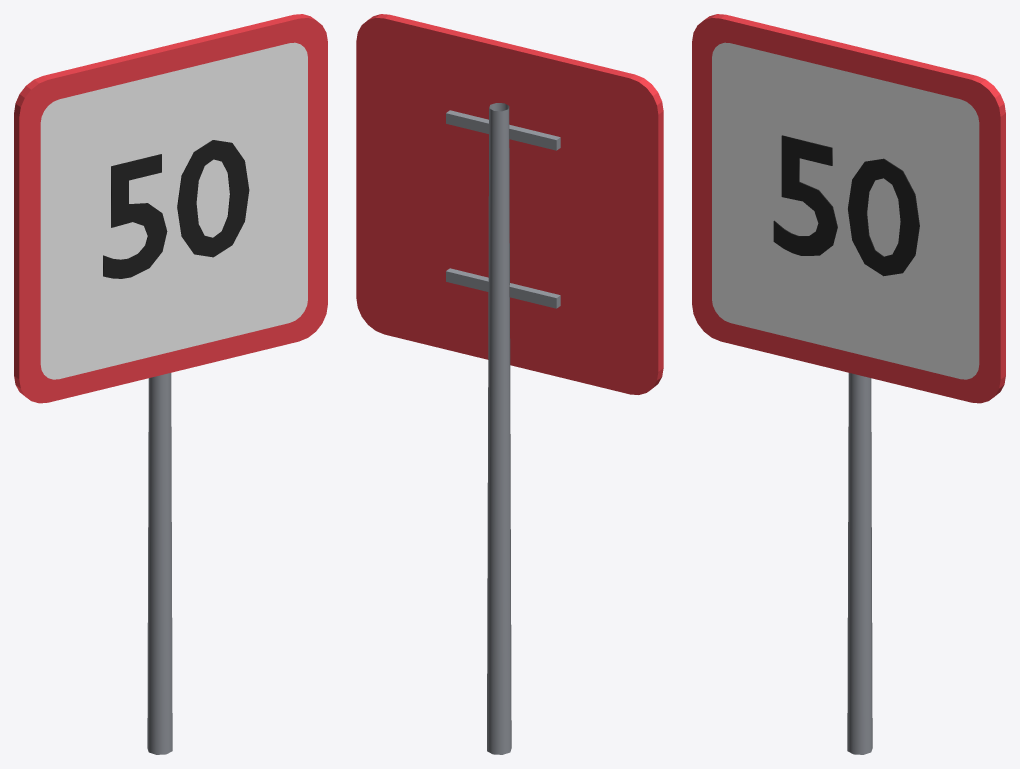
The model's file is placa_50.glb.
The picture shows the model from 3 angles, left to right: view 1: azimuth 30°, elevation 25°; view 2: azimuth 150°, elevation 25°; view 3: azimuth 330°, elevation 25°; orthographic projection. The views are drawn at different scales.
Parts seen in each view (by area): view 1: branco, vermelho, metal, t; view 2: vermelho, metal; view 3: branco, vermelho, metal, t.
Part boxes in pixels (x1,y1,x2,y2): branco: (40,42,307,379); vermelho: (14,14,327,403); metal: (147,373,172,754); t: (103,140,249,278); vermelho: (356,14,663,394); metal: (446,103,560,754); branco: (712,42,979,379); vermelho: (692,14,1005,403); metal: (847,373,872,754); t: (773,135,919,276).
Size of the model in its own units: 3 by 6.6 by 0.362.
